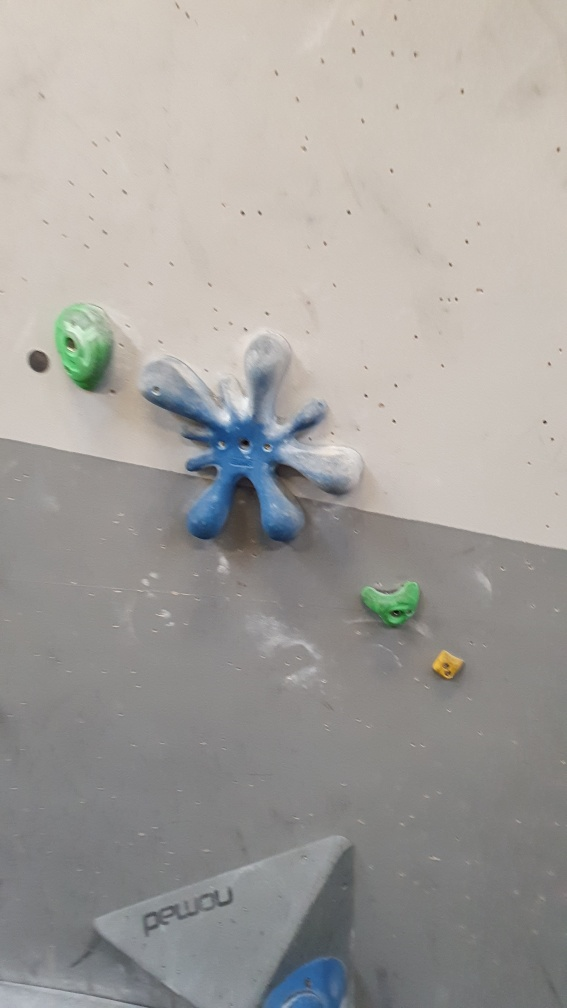Hand Start: (27, 347, 52, 376)
Jug: (360, 572, 422, 629)
Octopus Pinch: (132, 326, 372, 550)
